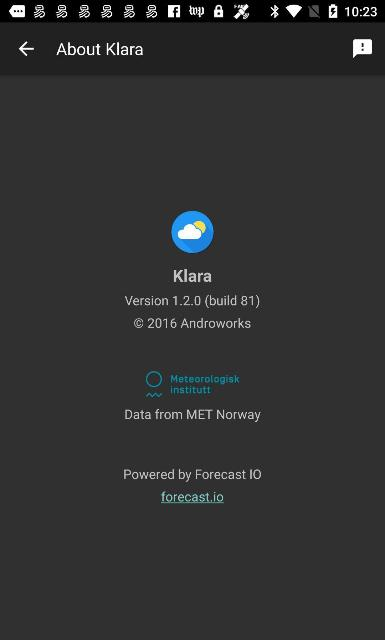Icon: (146, 370, 162, 398), (352, 38, 372, 58), (18, 41, 34, 57)
Image: (170, 210, 214, 253)
Text: (123, 468, 261, 482), (125, 408, 261, 422), (124, 294, 260, 308), (134, 317, 251, 329), (171, 374, 239, 394), (56, 42, 142, 56), (160, 491, 224, 504), (173, 268, 211, 282)
Toolbar: (0, 23, 384, 75)
UpperTaskBar: (0, 0, 384, 22)
